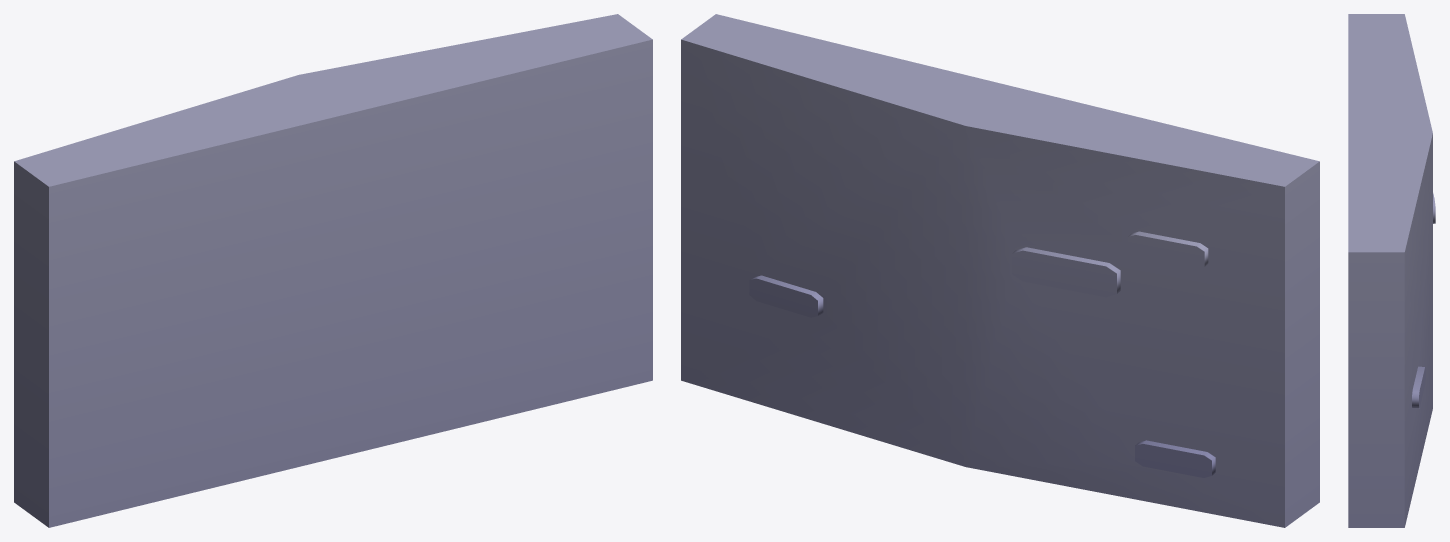
File: template_wall_top__3_3_lev1.glb
3 renders of one model, left to right at view 1: azimuth 30°, elevation 25°; view 2: azimuth 150°, elevation 25°; view 3: azimuth 270°, elevation 25°, orthographic. The views are drawn at different scales.
Parts seen in each view (by area): view 1: template_wall_top__3_3_lev1; view 2: template_wall_top__3_3_lev1; view 3: template_wall_top__3_3_lev1.
Boxes of the visible parts, x1,y1,x2,y2 form: template_wall_top__3_3_lev1: (14, 14, 652, 527); template_wall_top__3_3_lev1: (681, 14, 1319, 527); template_wall_top__3_3_lev1: (1348, 14, 1435, 527).
Bounding box in the file's own units: 3.74 × 2.02 × 0.5782.
1 material, 1 textured.
